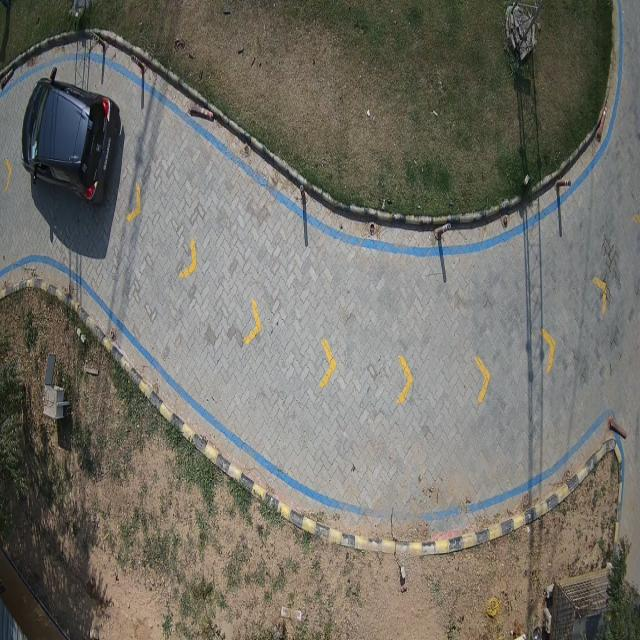car: (21, 69, 121, 201)
